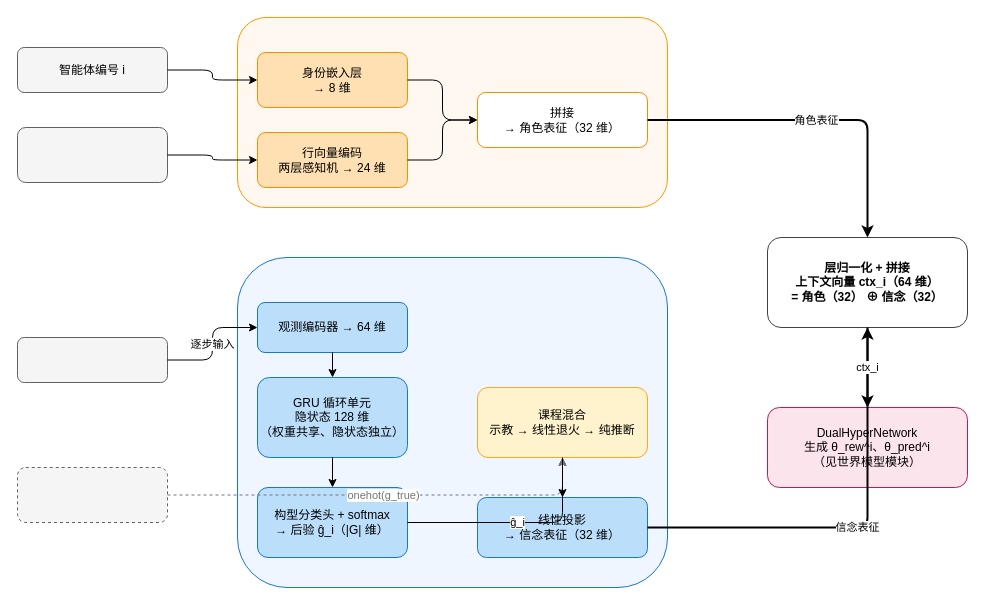
This 985x605 diagram has some shape labels left out. The box of each missing label's shape, as (x1, y1, x2, y2) in pixels:
信念通路（BeliefNet + BeliefEncoder）: (236, 256, 668, 588)
构型真值 g_true （仅训练期）: (16, 466, 168, 522)
自身关系行向量 w_i· （私有角色信息）: (16, 126, 168, 182)
观测序列 o_i^0 … o_i^t: (16, 336, 168, 382)
角色通路（RoleEncoder）: (236, 16, 668, 208)
